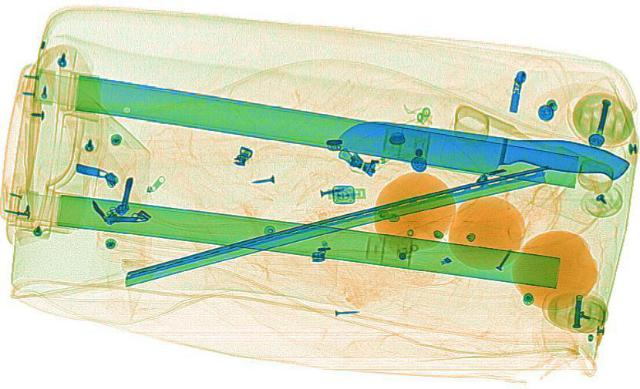Knife: (328, 112, 634, 190)
